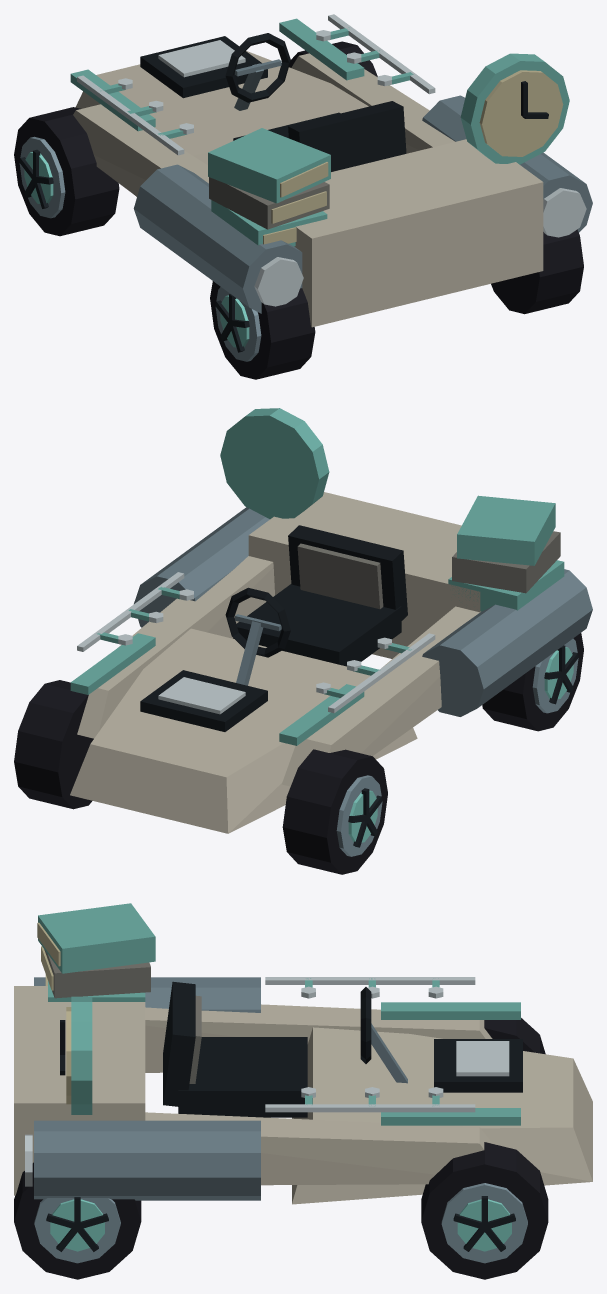
The model's file is kart.glb.
The picture shows the model from 3 angles, top to bottom: view 1: azimuth 30°, elevation 25°; view 2: azimuth 150°, elevation 25°; view 3: azimuth 270°, elevation 25°; orthographic projection. The views are drawn at different scales.
Parts seen in each view (by area): view 1: identity-lab-pod-lab-pod-segmented-shell, identity-lab-pod-motif-books, wheel-front-left, identity-lab-pod-motif-clock, identity-lab-pod-driver-cockpit, wheel-rear-left, wheel-rear-right, identity-lab-pod-motif-circuit, wheel-front-right; view 2: identity-lab-pod-lab-pod-segmented-shell, identity-lab-pod-driver-cockpit, wheel-front-left, identity-lab-pod-motif-books, identity-lab-pod-motif-clock, wheel-front-right, wheel-rear-left, identity-lab-pod-motif-circuit; view 3: identity-lab-pod-lab-pod-segmented-shell, identity-lab-pod-driver-cockpit, wheel-front-right, identity-lab-pod-motif-books, wheel-rear-right, identity-lab-pod-motif-circuit, identity-lab-pod-motif-clock, wheel-front-left.
Boxes of the visible parts, x1,y1,x2,y2 form: identity-lab-pod-lab-pod-segmented-shell: [70, 18, 592, 327]; identity-lab-pod-motif-books: [208, 128, 330, 246]; wheel-front-left: [14, 107, 119, 236]; identity-lab-pod-motif-clock: [460, 53, 569, 164]; identity-lab-pod-driver-cockpit: [225, 33, 406, 171]; wheel-rear-left: [210, 281, 315, 379]; wheel-rear-right: [491, 229, 583, 314]; identity-lab-pod-motif-circuit: [77, 14, 435, 155]; wheel-front-right: [289, 41, 377, 76]; identity-lab-pod-lab-pod-segmented-shell: [70, 492, 592, 833]; identity-lab-pod-driver-cockpit: [225, 525, 407, 685]; wheel-front-left: [282, 749, 387, 874]; identity-lab-pod-motif-books: [448, 495, 564, 611]; identity-lab-pod-motif-clock: [220, 408, 329, 519]; wheel-front-right: [14, 680, 93, 809]; wheel-rear-left: [482, 633, 583, 731]; identity-lab-pod-motif-circuit: [77, 572, 435, 713]; identity-lab-pod-lab-pod-segmented-shell: [14, 977, 592, 1204]; identity-lab-pod-driver-cockpit: [163, 981, 407, 1117]; wheel-front-right: [421, 1142, 548, 1279]; identity-lab-pod-motif-books: [37, 903, 155, 1001]; wheel-rear-right: [14, 1162, 141, 1279]; identity-lab-pod-motif-circuit: [265, 977, 475, 1112]; identity-lab-pod-motif-clock: [60, 996, 92, 1114]; wheel-front-left: [484, 1018, 545, 1054].
Size of the model in its own units: 1.98 by 1.35 by 2.73.
